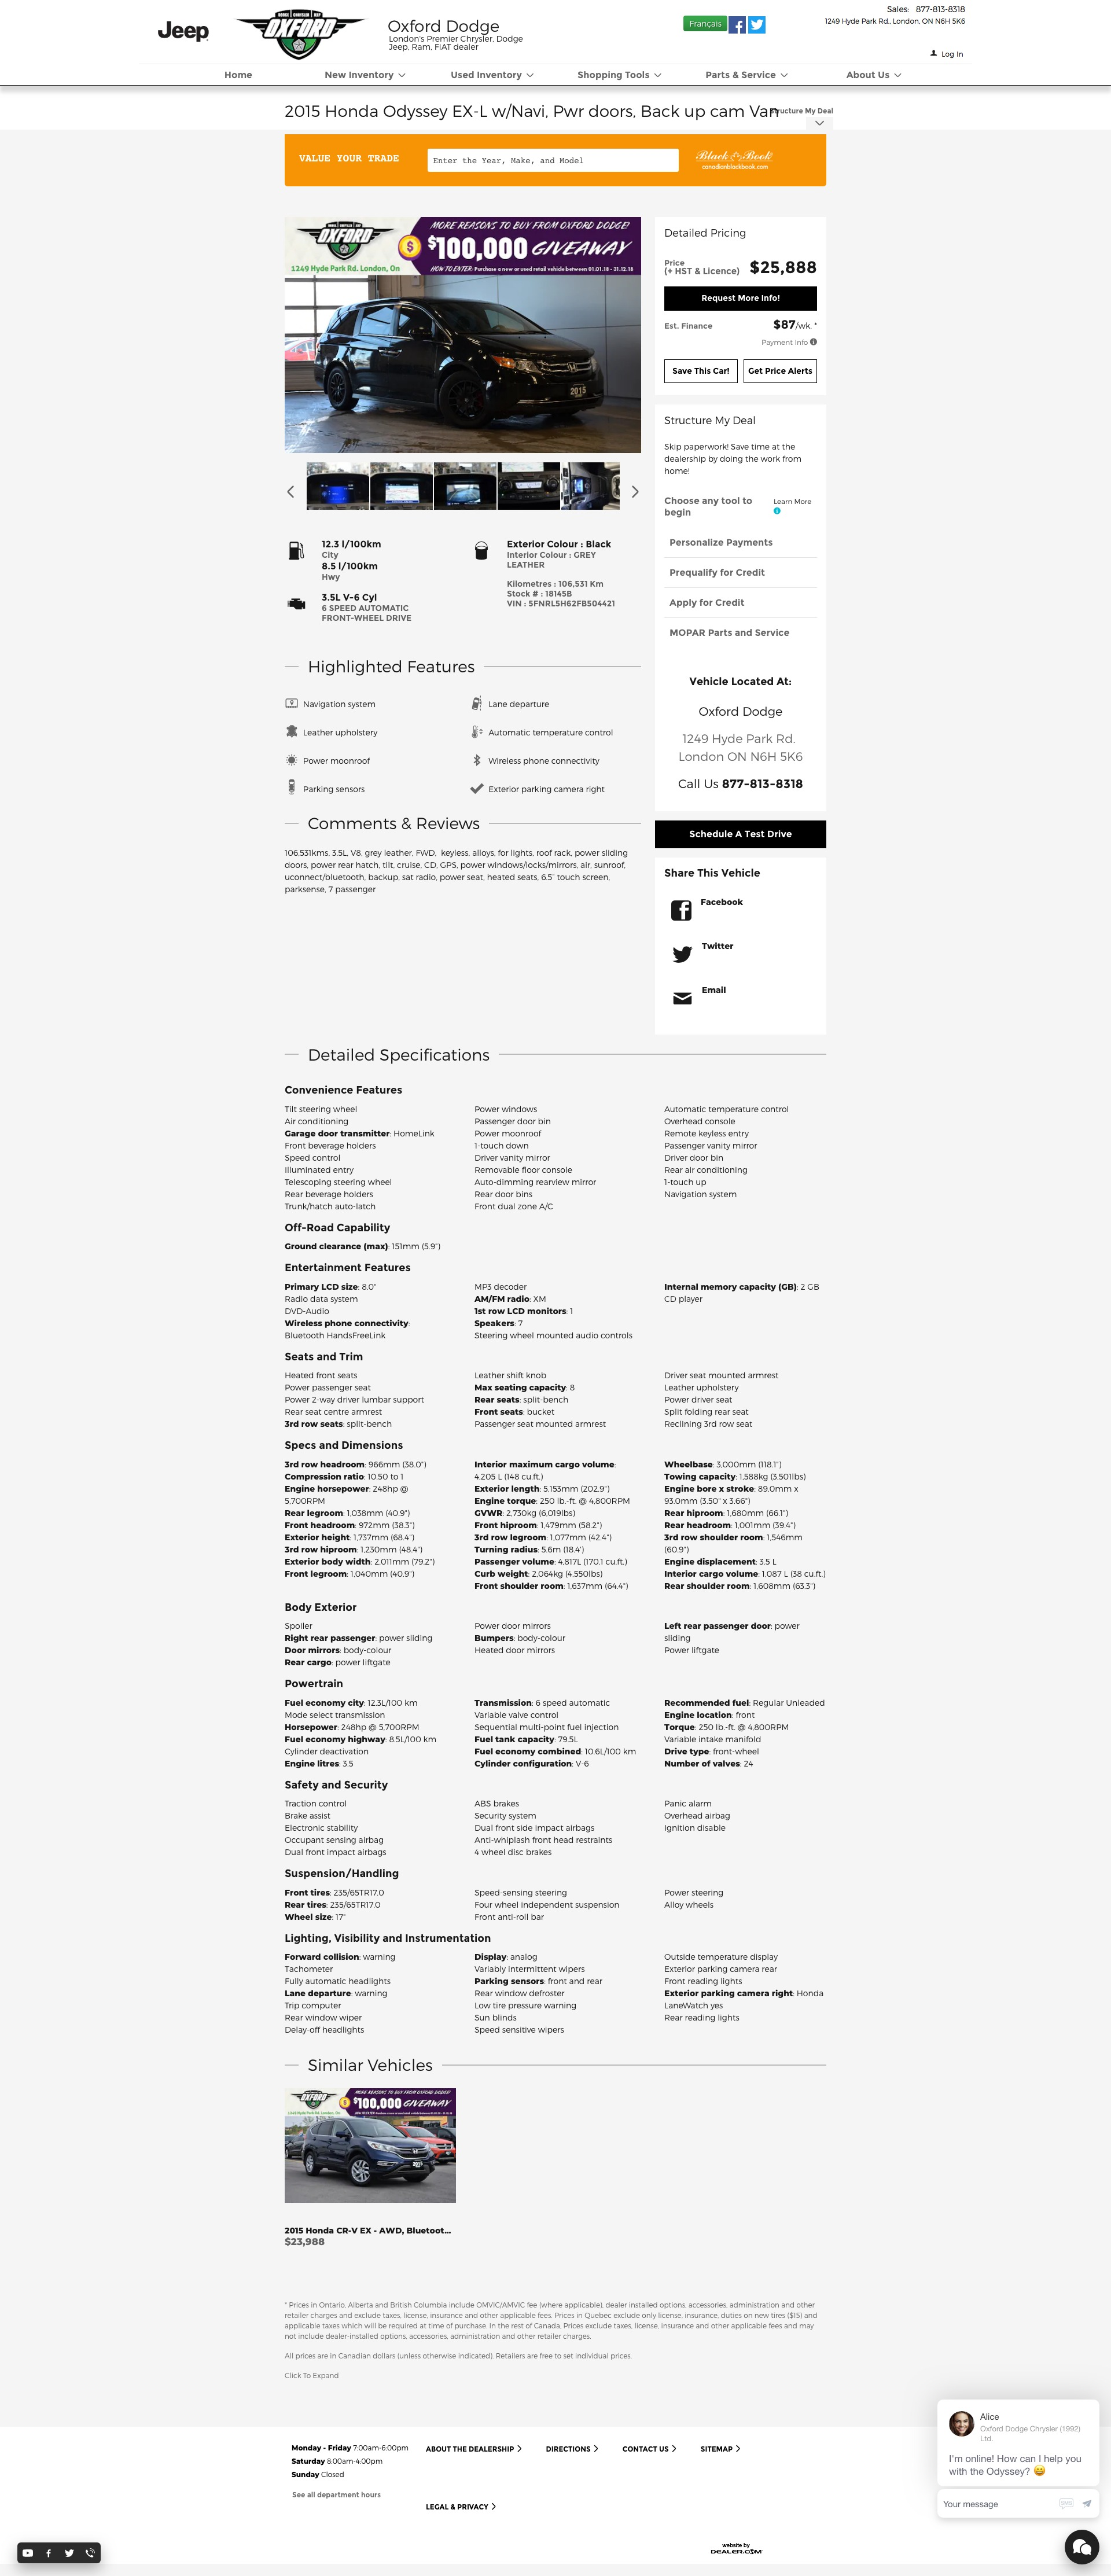car: (631, 485, 639, 499)
